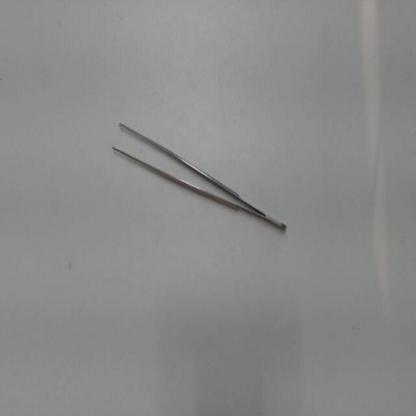Gillies Toothed Dissector: (112, 112, 292, 240)
